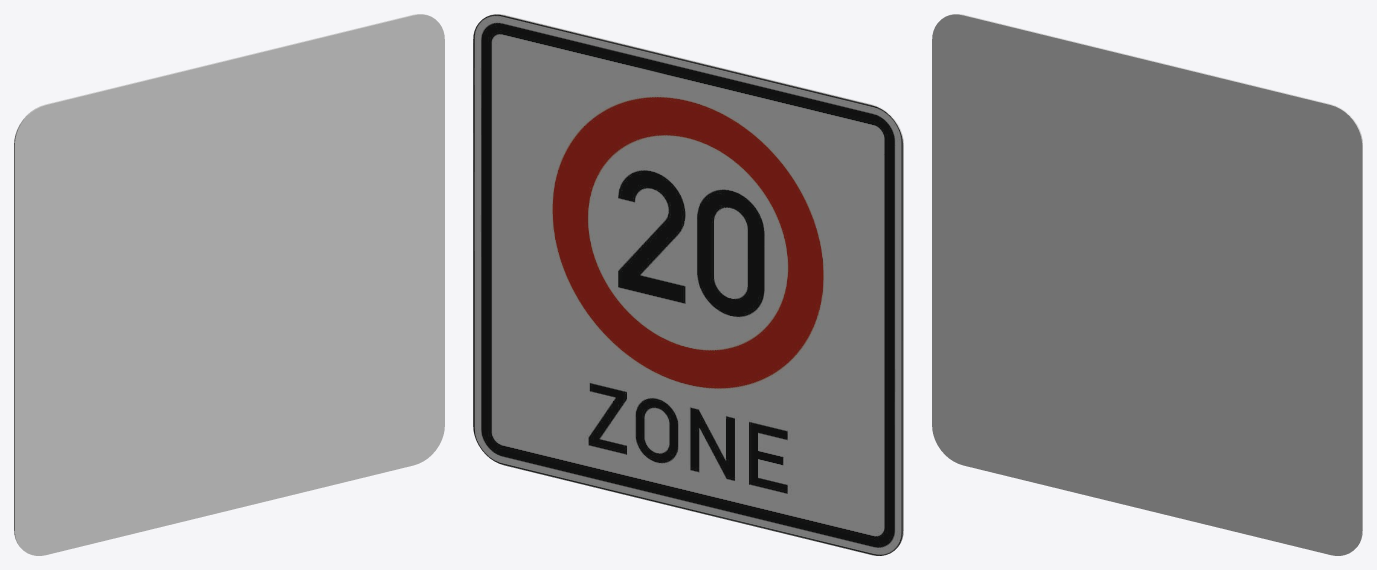
The picture shows the model from 3 angles, left to right: view 1: azimuth 30°, elevation 25°; view 2: azimuth 150°, elevation 25°; view 3: azimuth 330°, elevation 25°; orthographic projection.
Parts seen in each view (by area): view 1: Plane; view 2: Plane; view 3: Plane.
Boxes of the visible parts, left/top/right/bottom form: Plane: left=14, top=14, right=444, bottom=555; Plane: left=473, top=14, right=903, bottom=555; Plane: left=932, top=14, right=1362, bottom=555.
Size of the model in its own units: 0.6 by 0.6 by 0.002.
Materials: 2 (1 with a texture image).
